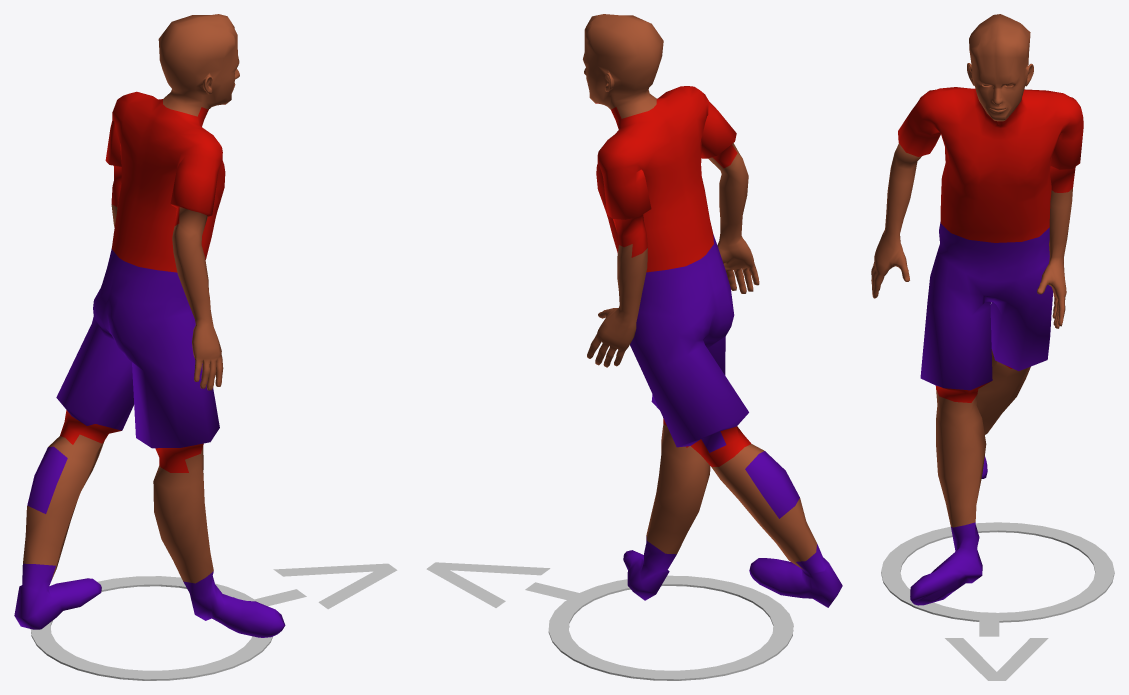
The model's file is player_000035.obj.
3 views of the same model, side by side, from view 1: azimuth 30°, elevation 25°; view 2: azimuth 150°, elevation 25°; view 3: azimuth 270°, elevation 25° (orthographic). The views are drawn at different scales.
Visible parts, largest first — view 1: soccerplayer.002_mesh.003, Circle, Text.001_Mesh.001; view 2: soccerplayer.002_mesh.003, Circle, Text.001_Mesh.001; view 3: soccerplayer.002_mesh.003, Circle, Text.001_Mesh.001.
Part boxes in pixels (bbox=[...]): soccerplayer.002_mesh.003: bbox=[14, 14, 285, 637]; Circle: bbox=[30, 576, 272, 680]; Text.001_Mesh.001: bbox=[250, 563, 397, 609]; soccerplayer.002_mesh.003: bbox=[583, 14, 842, 607]; Circle: bbox=[548, 575, 793, 680]; Text.001_Mesh.001: bbox=[426, 562, 582, 607]; soccerplayer.002_mesh.003: bbox=[871, 14, 1083, 605]; Circle: bbox=[881, 522, 1114, 622]; Text.001_Mesh.001: bbox=[945, 614, 1048, 680].
Size of the model in its own units: 2.01 by 2.94 by 1.13.
